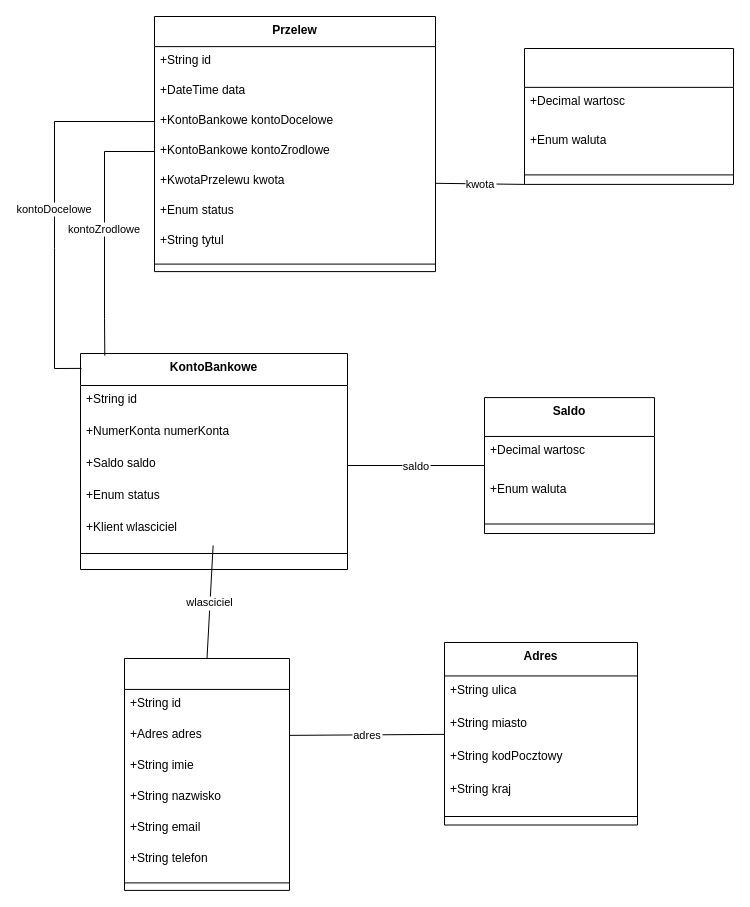
This 750x907 diagram has some shape labels left out. The shapes that lost their labels are listed below. From the top down, each one's box as (x1, y1, x2, y2) in pixels, then its label:
(524, 48, 734, 184): KwotaPrzelewu
(124, 658, 290, 890): Klient
